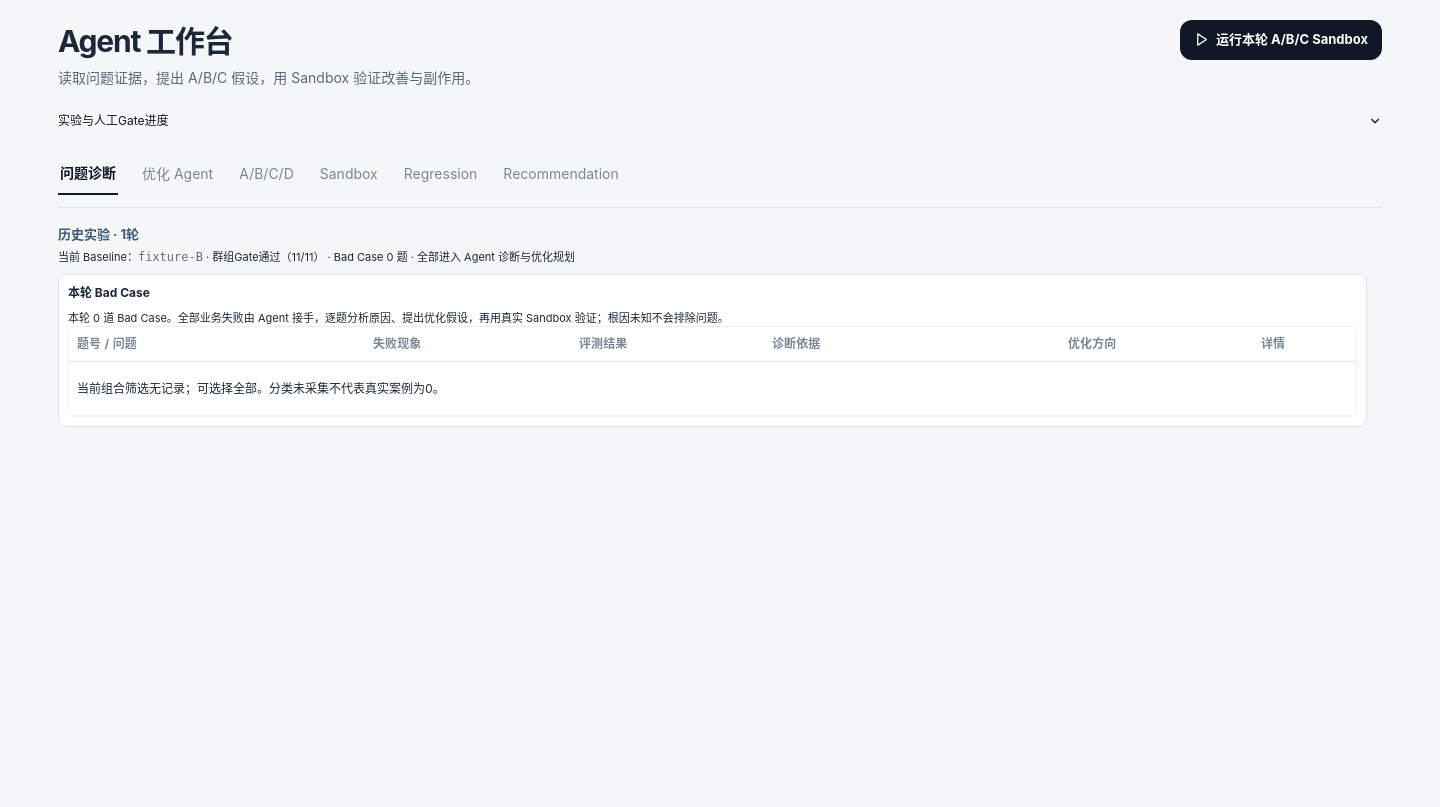
latest candidate cards and history Drawer keep round provenance
The width and height of the screenshot is (1440, 807).
Click the button "A/B/C/D" at (266, 174), box [237, 152, 296, 195]
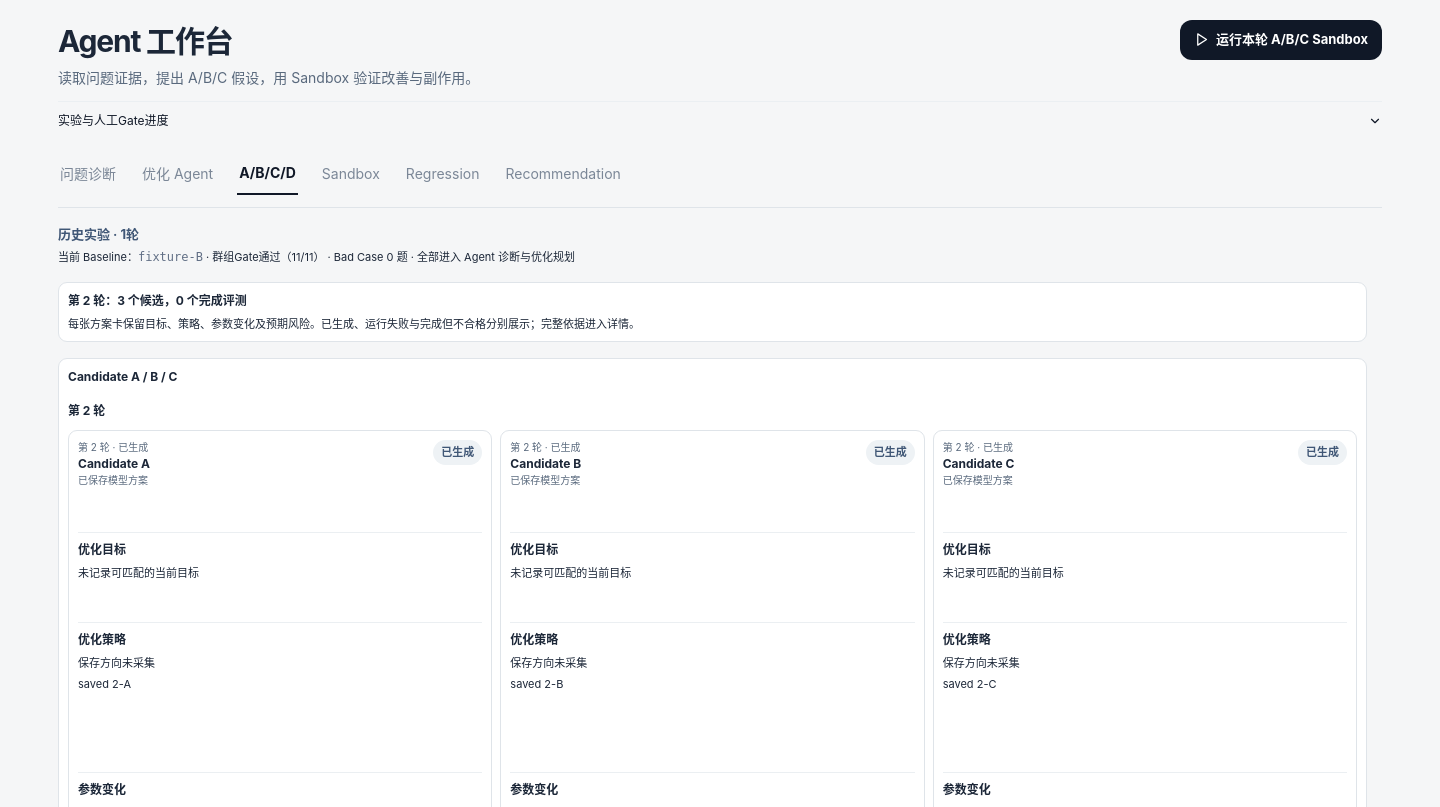
Expected: the element with class "candidate-card" shows "saved 2-A", [78, 677, 131, 691]
Click the button "历史实验 · 1轮" at (99, 235), box [58, 222, 139, 248]
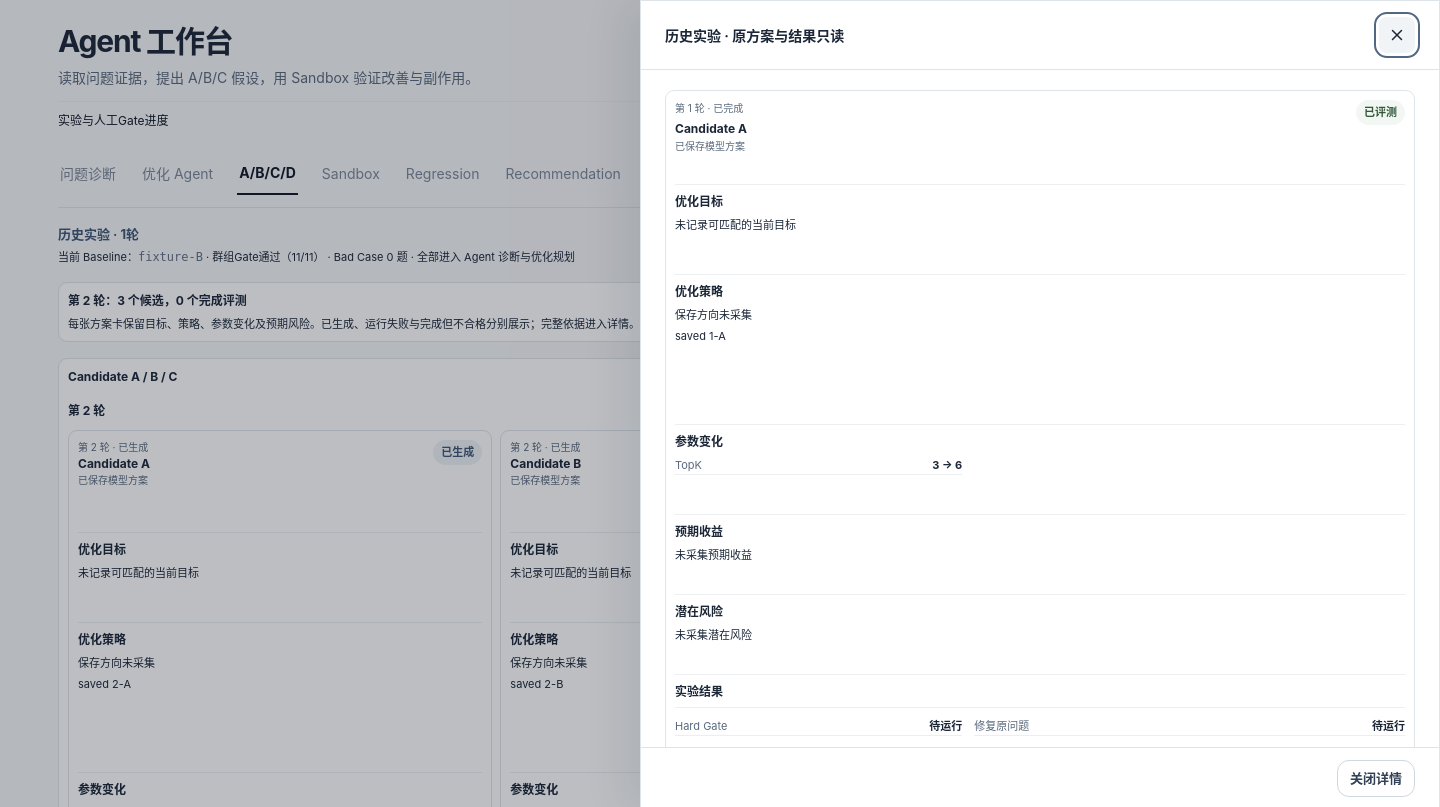
Expected: the text "saved 2-A" is not shown
Expected: the dialog shows "saved 1-A", [675, 328, 726, 342]
